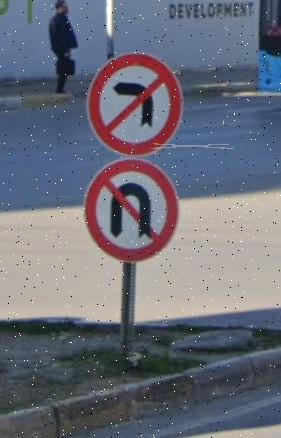leftturnsareforbidden: (90, 54, 185, 153)
